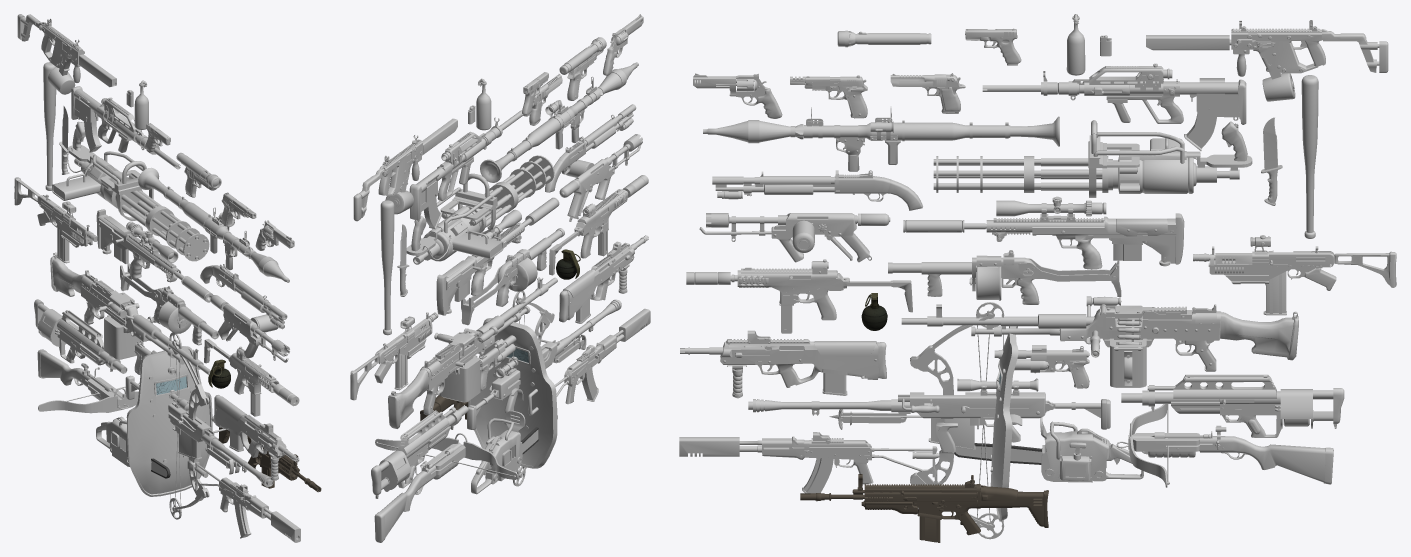
Rendered from weaponsStatic.fbx.
3 renders of one model, left to right at view 1: azimuth 30°, elevation 25°; view 2: azimuth 150°, elevation 25°; view 3: azimuth 270°, elevation 25°, orthographic. The views are drawn at different scales.
Parts seen in each view (by area): view 1: shield, BFG_1, hmg_1, sniper_1, rpg, M64_1, AMrifle_1, crossbow_1, smg3, slugger_1, pdr, shotgun_1 (+17 smaller); view 2: BFG_1, shield, hmg_1, crossbow_1, M64_1, rpg, sniper_1, slugger_1, smg3, pdr, AMrifle_1, shotgun_1 (+18 smaller); view 3: hmg_1, BFG_1, sniper_1, AMrifle_1, M64_1, slugger_1, pdr, smg3, rpg, Scar_1, crossbow_1, CQ16_1 (+17 smaller).
Boxes of the visible parts, bbox=[...] form: shield: bbox=[126, 346, 212, 496]; BFG_1: bbox=[52, 121, 209, 261]; hmg_1: bbox=[50, 252, 210, 374]; sniper_1: bbox=[96, 209, 213, 302]; rpg: bbox=[138, 167, 289, 282]; M64_1: bbox=[71, 86, 180, 169]; AMrifle_1: bbox=[125, 375, 273, 487]; crossbow_1: bbox=[37, 349, 139, 413]; smg3: bbox=[17, 14, 116, 94]; slugger_1: bbox=[34, 299, 127, 373]; pdr: bbox=[213, 395, 299, 480]; shotgun_1: bbox=[120, 263, 219, 345]; BFG_1: bbox=[406, 155, 554, 264]; shield: bbox=[468, 318, 557, 468]; hmg_1: bbox=[388, 277, 557, 428]; crossbow_1: bbox=[374, 433, 517, 542]; M64_1: bbox=[409, 110, 523, 229]; rpg: bbox=[480, 62, 638, 182]; sniper_1: bbox=[436, 197, 559, 315]; slugger_1: bbox=[371, 405, 468, 498]; smg3: bbox=[353, 118, 457, 221]; pdr: bbox=[559, 235, 648, 323]; AMrifle_1: bbox=[467, 299, 621, 429]; shotgun_1: bbox=[461, 228, 564, 325]; hmg_1: bbox=[901, 296, 1298, 387]; BFG_1: bbox=[933, 120, 1252, 197]; sniper_1: bbox=[903, 196, 1184, 269]; AMrifle_1: bbox=[748, 377, 1110, 450]; M64_1: bbox=[982, 63, 1246, 150]; slugger_1: bbox=[1121, 374, 1344, 437]; pdr: bbox=[680, 330, 886, 398]; smg3: bbox=[1146, 20, 1388, 101]; rpg: bbox=[703, 106, 1059, 171]; Scar_1: bbox=[800, 474, 1048, 542]; crossbow_1: bbox=[1116, 404, 1333, 487]; CQ16_1: bbox=[1193, 235, 1396, 315].
Bounding box in the file's own units: 87.57 × 239 × 296.
